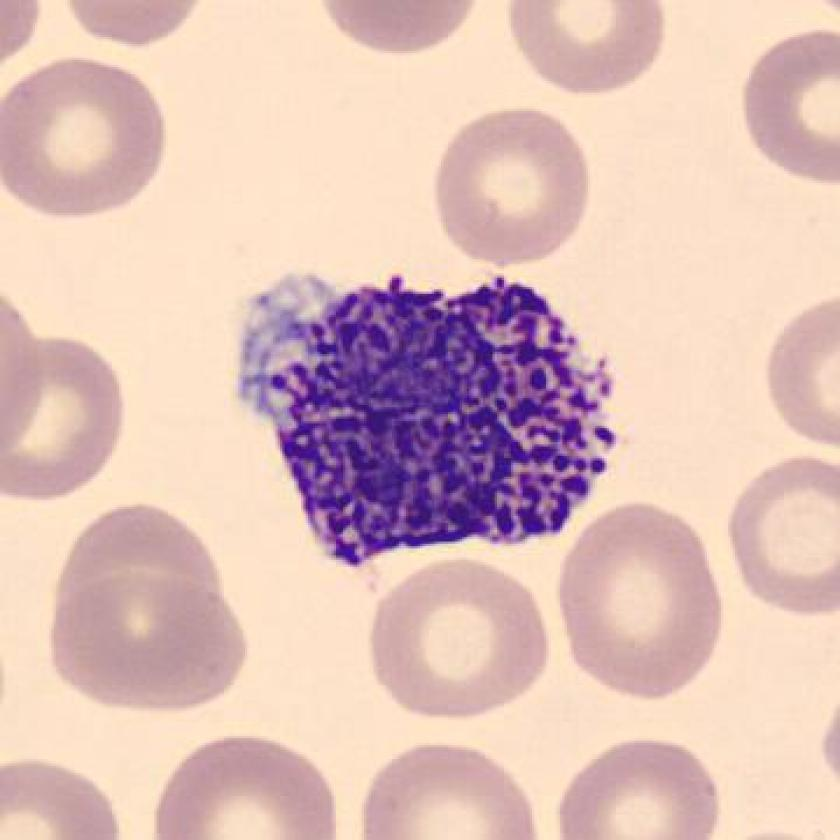basophil: (232, 255, 633, 568)
